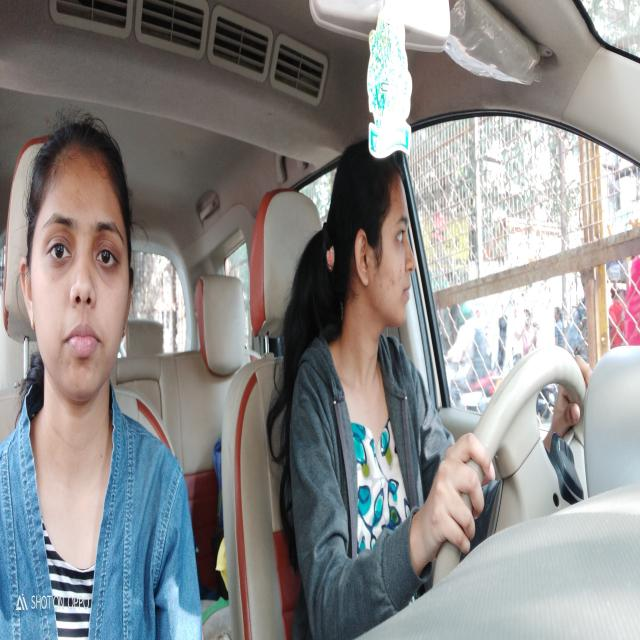LeftRight: (327, 134, 418, 343)
person: (16, 115, 135, 410)
